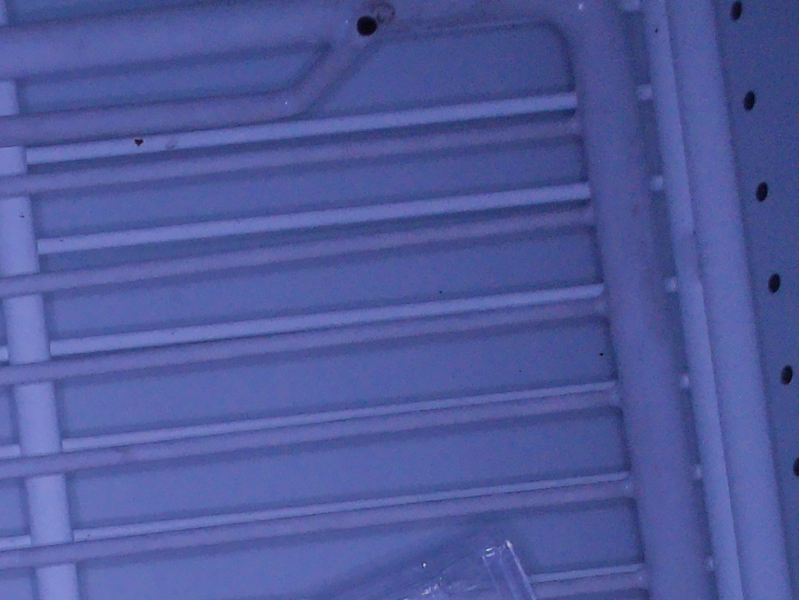plate: (342, 523, 537, 600)
